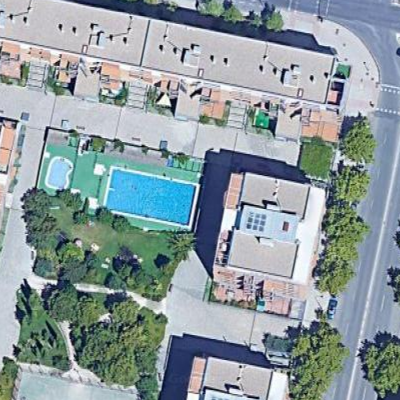tree: (289, 328, 349, 398), (309, 241, 358, 288), (363, 342, 400, 397), (323, 205, 371, 241), (330, 162, 370, 205), (340, 117, 379, 161), (80, 332, 109, 368), (110, 353, 138, 388), (47, 288, 77, 320), (77, 294, 110, 323), (257, 5, 288, 35), (21, 189, 54, 215), (23, 215, 62, 236), (110, 298, 140, 325), (58, 257, 88, 282), (221, 1, 249, 27), (135, 346, 157, 374), (29, 239, 58, 255), (145, 276, 165, 299), (113, 214, 133, 233), (103, 269, 122, 288), (96, 205, 113, 226)
